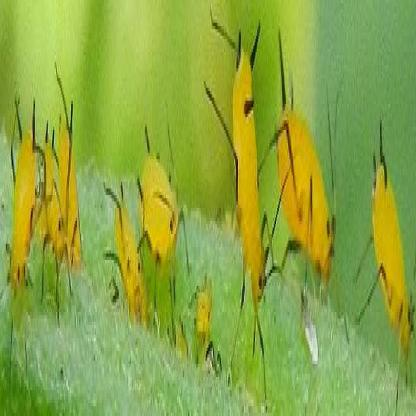aphid: (205, 0, 281, 395), (266, 40, 342, 323), (362, 75, 416, 402), (135, 113, 185, 325), (4, 60, 43, 320), (52, 70, 88, 290), (33, 95, 69, 307), (110, 155, 146, 348), (182, 230, 219, 377)
